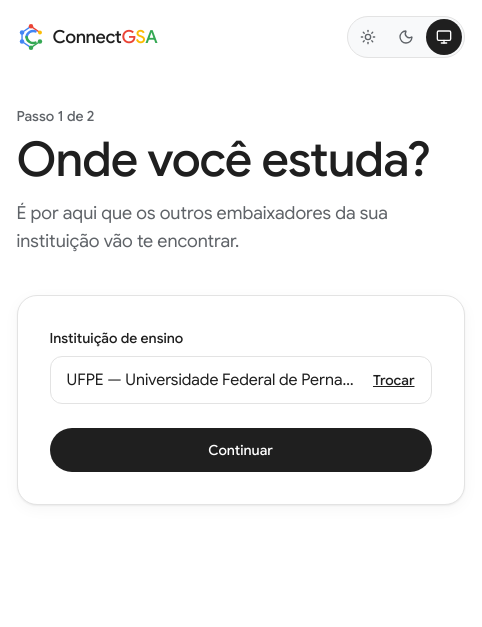
Test case: formulário do perfil › avisa que a pessoa vai aparecer no mapa, e que pode sair @spec:AC-128
Expected: the heading "Onde você estuda?" is shown, top-left (16, 134), bottom-right (464, 187)
Click the button "Continuar" at {"x": 240, "y": 450}, box top-left (50, 428), bottom-right (432, 472)
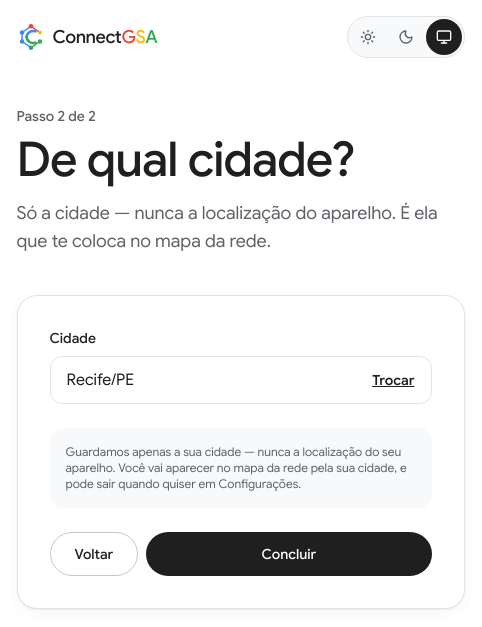
Result: the text "vai aparecer no mapa" shows "pode sair" at top-left (66, 444), bottom-right (407, 491)
Result: the text "vai aparecer no mapa" shows "cidade" at top-left (66, 444), bottom-right (407, 491)
Result: the text "vai aparecer no mapa" shows "nunca a localização do seu aparelho" at top-left (66, 444), bottom-right (407, 491)
